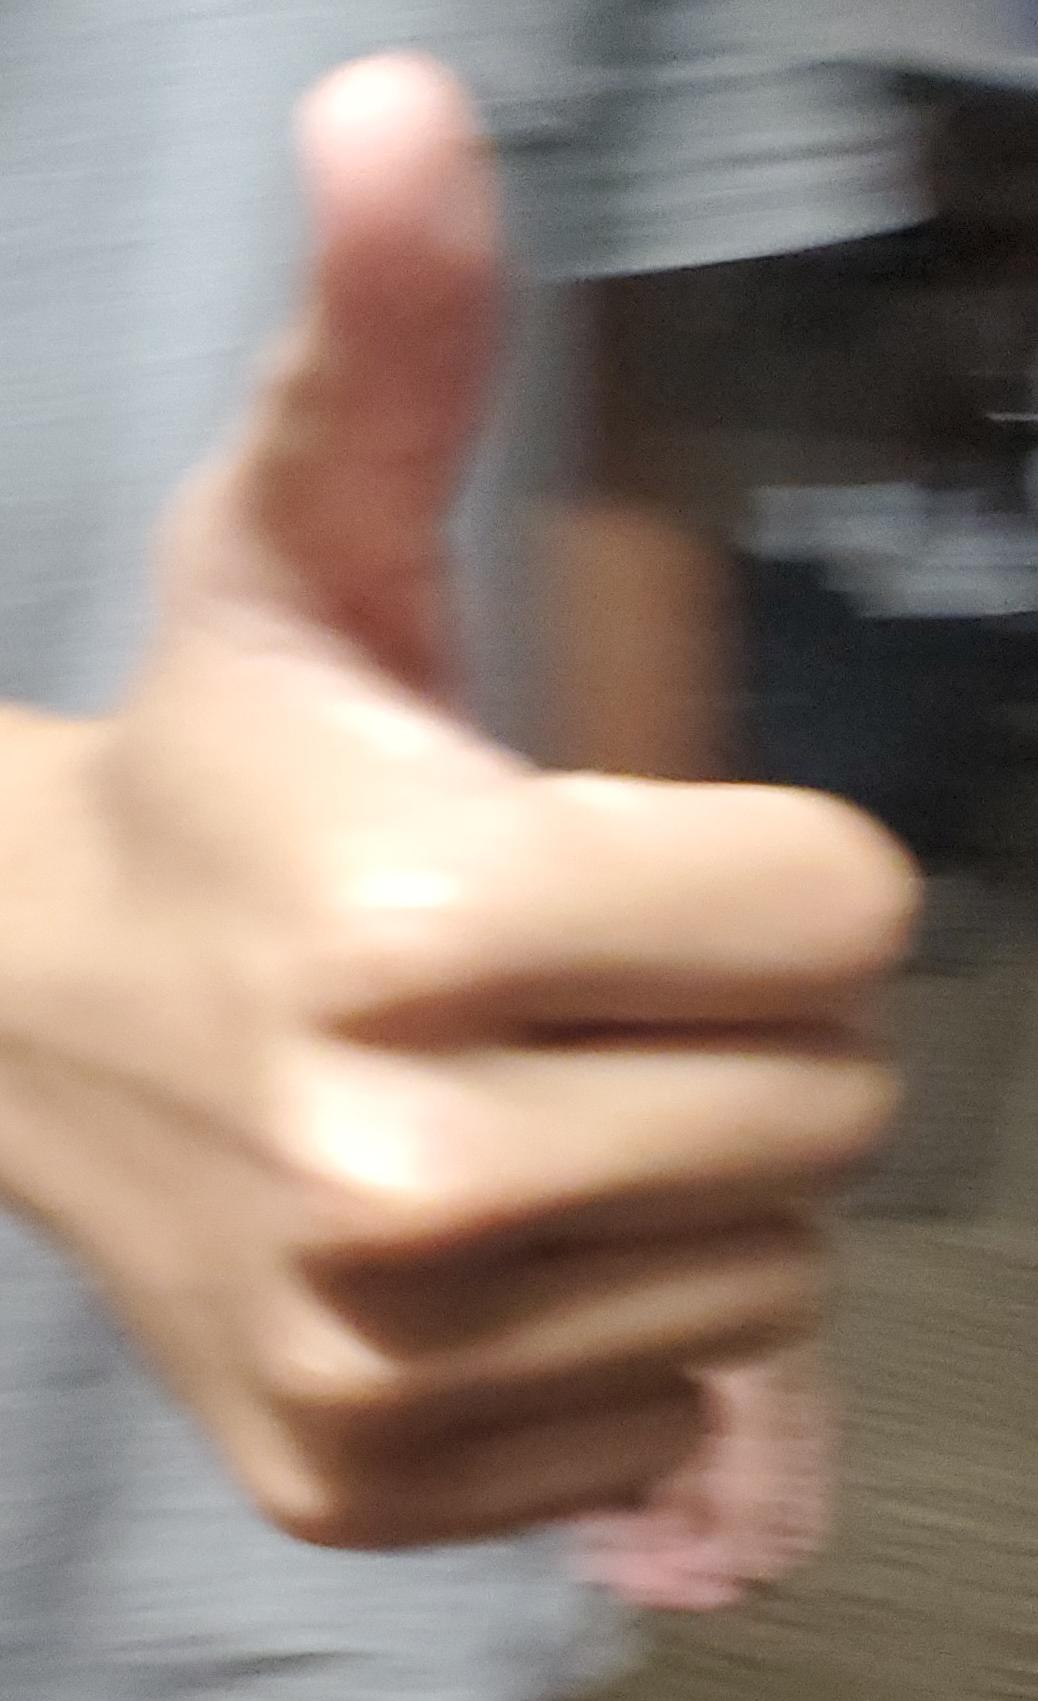up: (0, 1, 1038, 1701)
